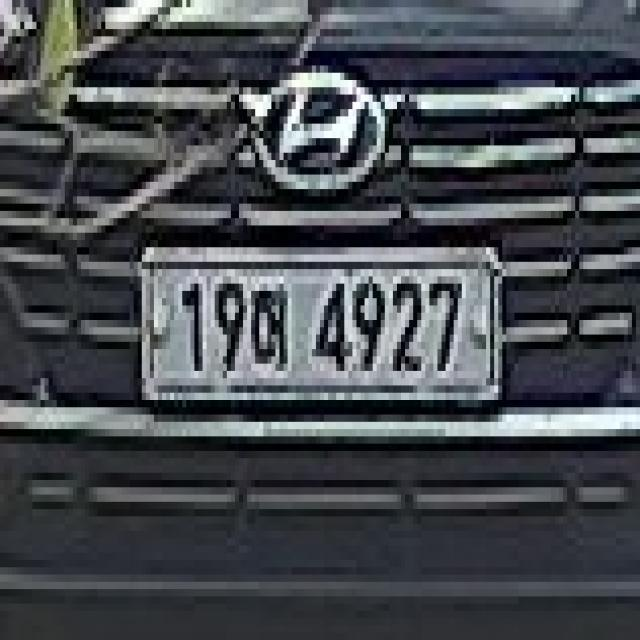plat: (139, 243, 502, 403)
